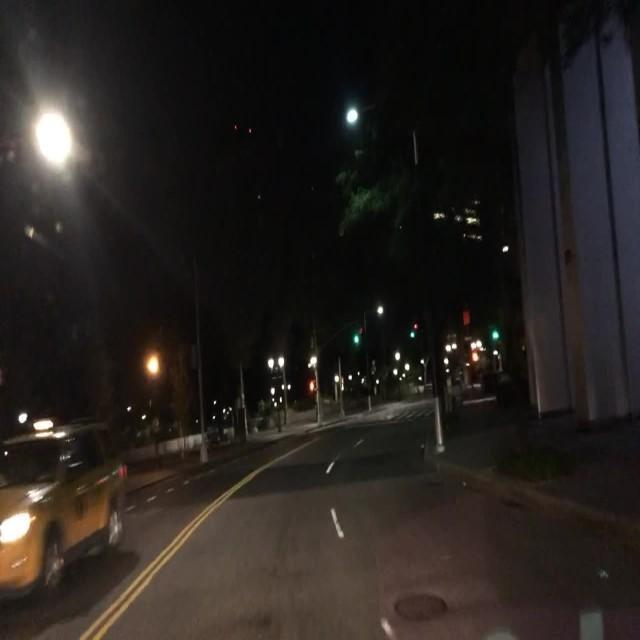normal: (0, 414, 192, 610)
